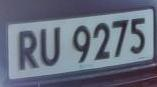2: (91, 19, 114, 62)
5: (128, 13, 148, 60)
7: (110, 16, 130, 60)
9: (69, 20, 94, 69)
R: (15, 26, 41, 73)
U: (39, 25, 64, 71)
